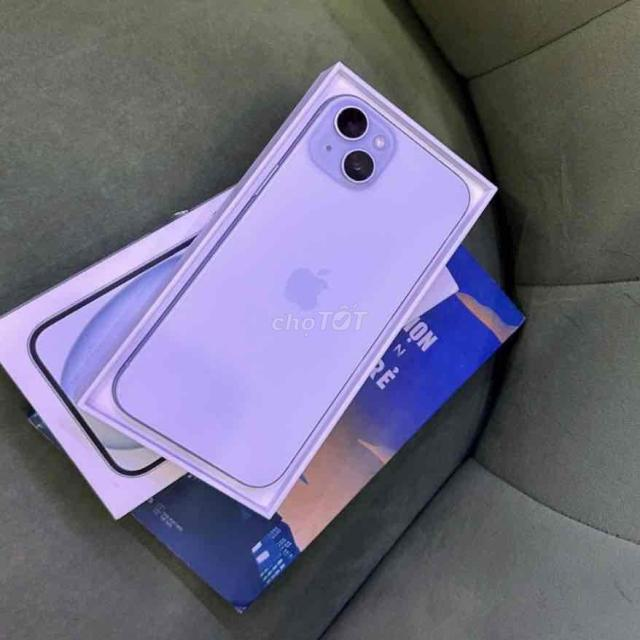gen_15: (96, 89, 476, 497)
